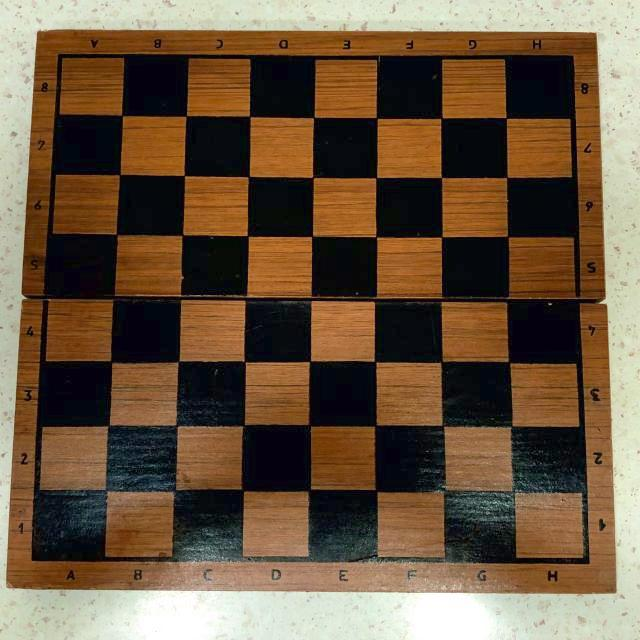chess-table-corners: (563, 536, 605, 578), (18, 538, 58, 576), (44, 40, 83, 74), (550, 41, 585, 74)
